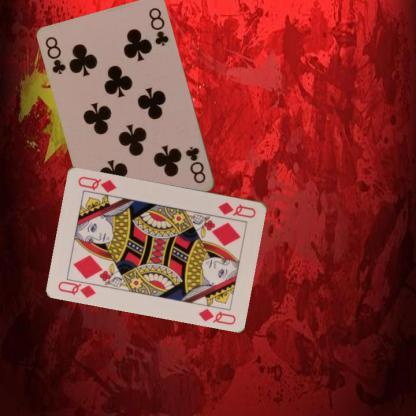8c: (42, 34, 68, 76), (182, 144, 208, 185)
Qd: (56, 276, 102, 298), (216, 199, 258, 219)
